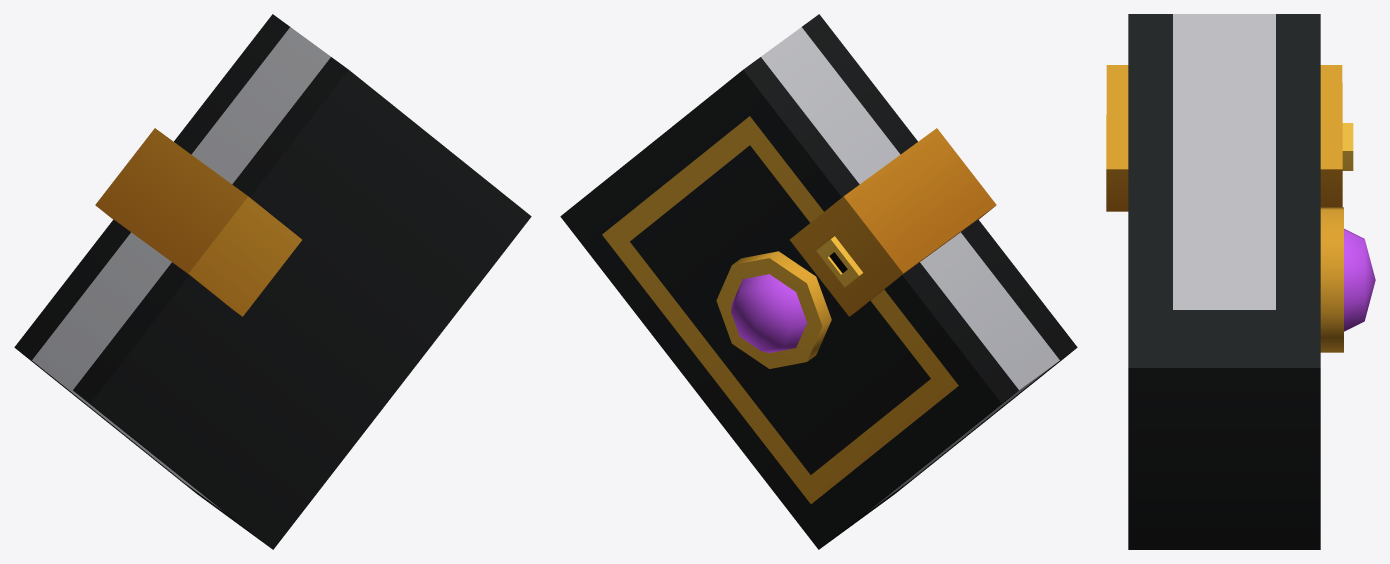
File: Spellbook 02.FBX
The picture shows the model from 3 angles, left to right: view 1: azimuth 30°, elevation 25°; view 2: azimuth 150°, elevation 25°; view 3: azimuth 270°, elevation 25°; orthographic projection. The views are drawn at different scales.
Visible parts, largest first — view 1: Spellbook 02; view 2: Spellbook 02; view 3: Spellbook 02.
Boxes of the visible parts, box(x1,y1,x2,y2) form: Spellbook 02: box(14, 14, 531, 549); Spellbook 02: box(560, 14, 1077, 549); Spellbook 02: box(1106, 14, 1375, 549).
Size of the model in its own units: 50.73 by 50.73 by 21.27.
